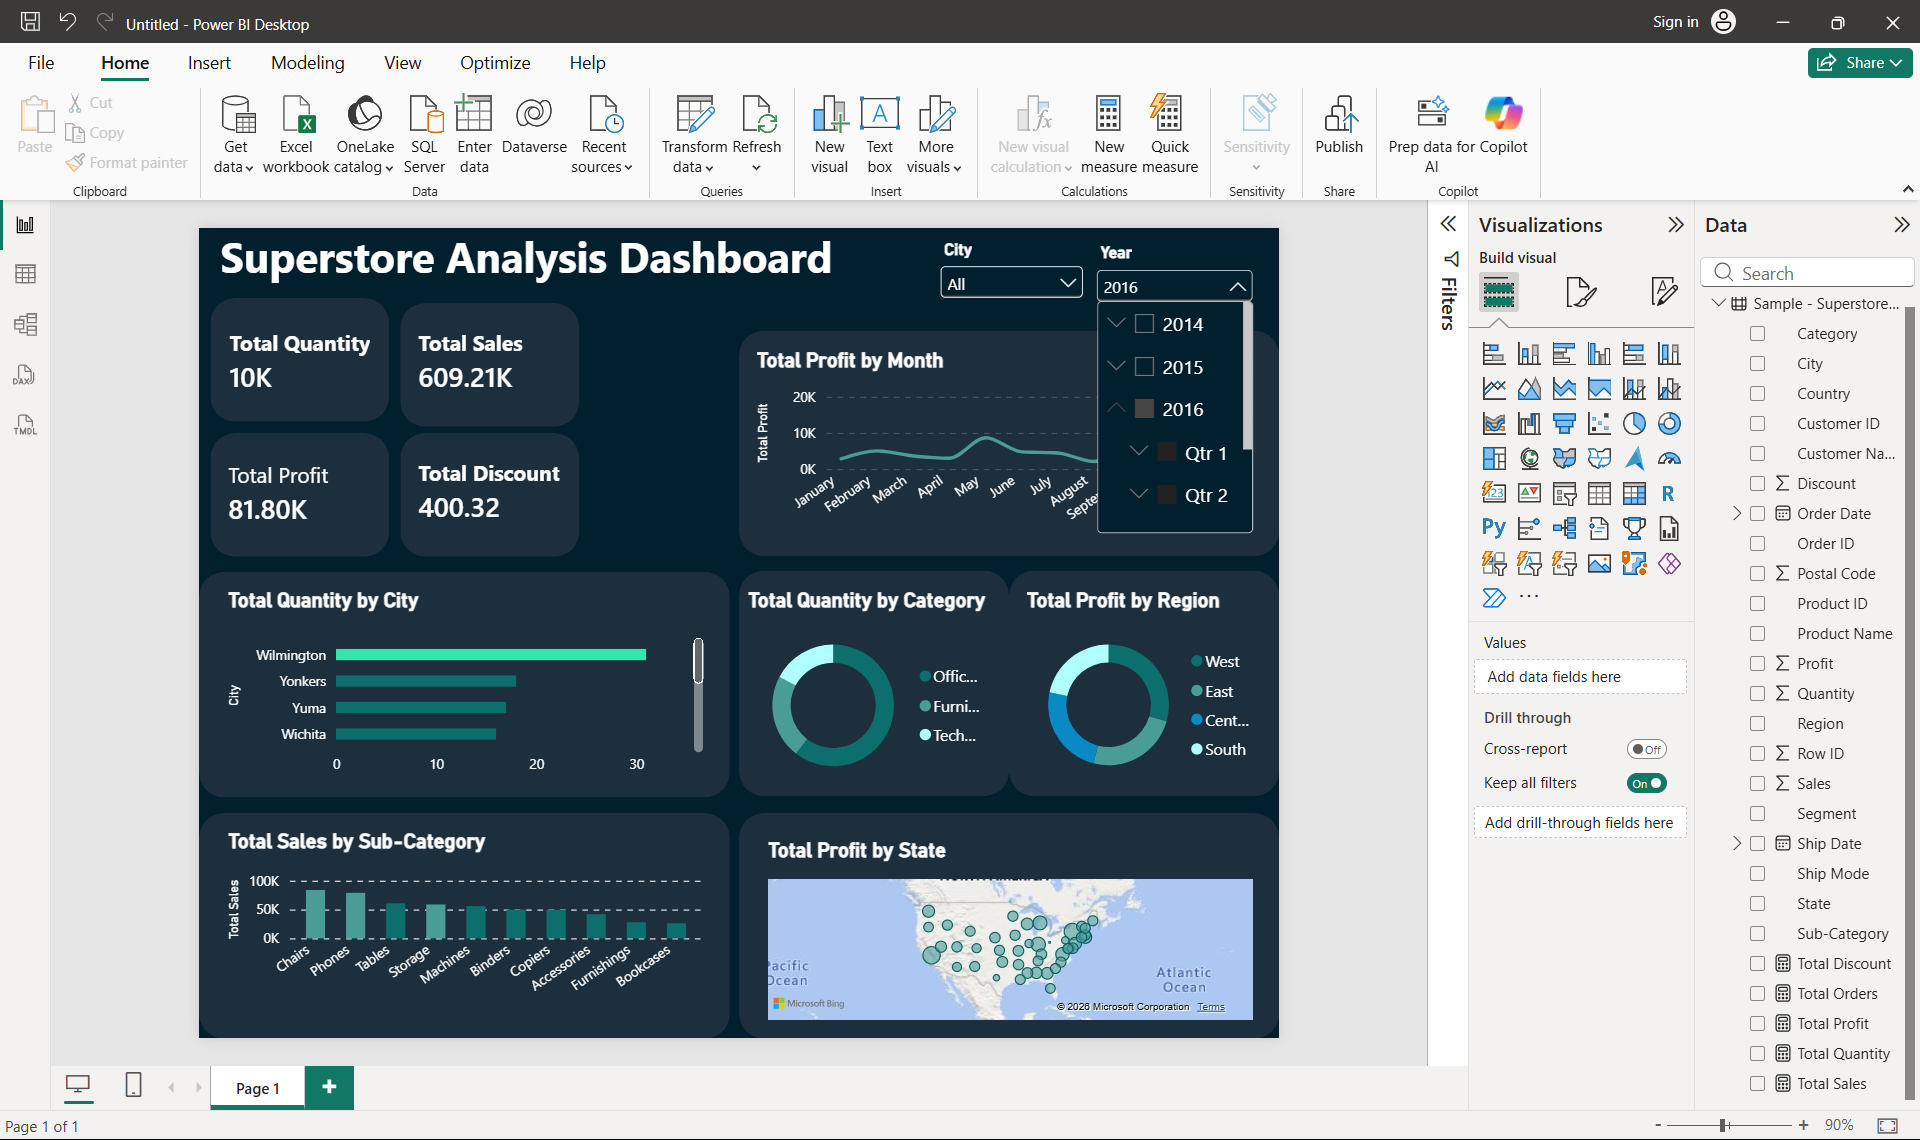

The page's visual inventory and layout, read from the dashboard file:
{"tool":"powerbi","page":{"name":"Page 1","canvas":[960,720],"ordinal":0},"visuals":[{"type":"shape","box":[480.1,519.6,480.1,200.6],"z":0},{"type":"shape","box":[0,519.6,471.8,200.6],"z":1000},{"type":"shape","box":[720.2,304.5,240.1,200.6],"z":2000},{"type":"shape","box":[480.1,91.5,480.1,200.6],"z":3000},{"type":"shape","box":[480.1,304.5,240.1,200.6],"z":4000},{"type":"shape","box":[0,305.5,471.8,200.6],"z":5000},{"type":"map","fields":{"Category":["Sample - Superstore_C2.State"],"Size":["Sample - Superstore_C2.Total Profit"]},"box":[490,528,463,192],"z":6000},{"type":"donutChart","fields":{"Category":["Sample - Superstore_C2.Category"],"Y":["Sample - Superstore_C2.Total Quantity"]},"box":[472,305,248,202],"z":7000},{"type":"donutChart","fields":{"Category":["Sample - Superstore_C2.Region"],"Y":["Sample - Superstore_C2.Total Profit"]},"box":[720,306,240,201],"z":8000},{"type":"lineChart","fields":{"Category":["Sample - Superstore_C2.Order Date.Variation.Date Hierarchy.Year","Sample - Superstore_C2.Order Date.Variation.Date Hierarchy.Quarter","Sample - Superstore_C2.Order Date.Variation.Date Hierarchy.Month","Sample - Superstore_C2.Order Date.Variation.Date Hierarchy.Day"],"Y":["Sample - Superstore_C2.Total Profit"]},"box":[480,92,473,201],"z":9000},{"type":"shape","box":[10,182,159,110],"z":10000},{"type":"shape","box":[179,182,159,110],"z":11000},{"type":"shape","box":[179,67,159,110],"z":12000},{"type":"shape","box":[10,62,159,110],"z":13000},{"type":"clusteredColumnChart","fields":{"Category":["Sample - Superstore_C2.Sub-Category"],"Y":["Sample - Superstore_C2.Total Sales"]},"box":[10,520,454,192],"z":14000},{"type":"clusteredBarChart","fields":{"Category":["Sample - Superstore_C2.City"],"Y":["Sample - Superstore_C2.Total Quantity"]},"box":[10,306,454,200],"z":15000},{"type":"cardVisual","fields":{"Data":["Sample - Superstore_C2.Total Sales"]},"box":[179,67,159,105],"z":16000},{"type":"cardVisual","fields":{"Data":["Sample - Superstore_C2.Total Quantity"]},"box":[11,67,159,105],"z":17000},{"type":"cardVisual","fields":{"Data":["Sample - Superstore_C2.Total Discount"]},"box":[179,182,159,105],"z":18000},{"type":"cardVisual","fields":{"Data":["Sample - Superstore_C2.Total Profit"]},"box":[10,184,159,105],"z":19000},{"type":"textbox","box":[19,0,602,50],"z":20000},{"type":"slicer","fields":{"Values":["Sample - Superstore_C2.City"]},"box":[654,10,136,57],"z":21000},{"type":"slicer","fields":{"Values":["Sample - Superstore_C2.Order Date.Variation.Date Hierarchy.Year","Sample - Superstore_C2.Order Date.Variation.Date Hierarchy.Quarter","Sample - Superstore_C2.Order Date.Variation.Date Hierarchy.Month","Sample - Superstore_C2.Order Date.Variation.Date Hierarchy.Day"]},"box":[793,13,148,54],"z":21001}]}

Visuals, with their boxes on the page's 960x720 design canvas (x1, y1, x2, y2). These are canvas units, not pixel positions in the 1920x1140 screenshot, which may show the page scaled, cropped or inside an application window:
shape: (480,520,960,720)
shape: (0,520,472,720)
shape: (720,304,960,505)
shape: (480,92,960,292)
shape: (480,304,720,505)
shape: (0,306,472,506)
map - Sample - Superstore_C2.State x Sample - Superstore_C2.Total Profit: (490,528,953,720)
donutChart - Sample - Superstore_C2.Category x Sample - Superstore_C2.Total Quantity: (472,305,720,507)
donutChart - Sample - Superstore_C2.Region x Sample - Superstore_C2.Total Profit: (720,306,960,507)
lineChart - Sample - Superstore_C2.Order Date.Variation.Date Hierarchy.Year x Sample - Superstore_C2.Order Date.Variation.Date Hierarchy.Quarter: (480,92,953,293)
shape: (10,182,169,292)
shape: (179,182,338,292)
shape: (179,67,338,177)
shape: (10,62,169,172)
clusteredColumnChart - Sample - Superstore_C2.Sub-Category x Sample - Superstore_C2.Total Sales: (10,520,464,712)
clusteredBarChart - Sample - Superstore_C2.City x Sample - Superstore_C2.Total Quantity: (10,306,464,506)
cardVisual - Sample - Superstore_C2.Total Sales: (179,67,338,172)
cardVisual - Sample - Superstore_C2.Total Quantity: (11,67,170,172)
cardVisual - Sample - Superstore_C2.Total Discount: (179,182,338,287)
cardVisual - Sample - Superstore_C2.Total Profit: (10,184,169,289)
textbox: (19,0,621,50)
slicer - Sample - Superstore_C2.City: (654,10,790,67)
slicer - Sample - Superstore_C2.Order Date.Variation.Date Hierarchy.Year x Sample - Superstore_C2.Order Date.Variation.Date Hierarchy.Quarter: (793,13,941,67)
